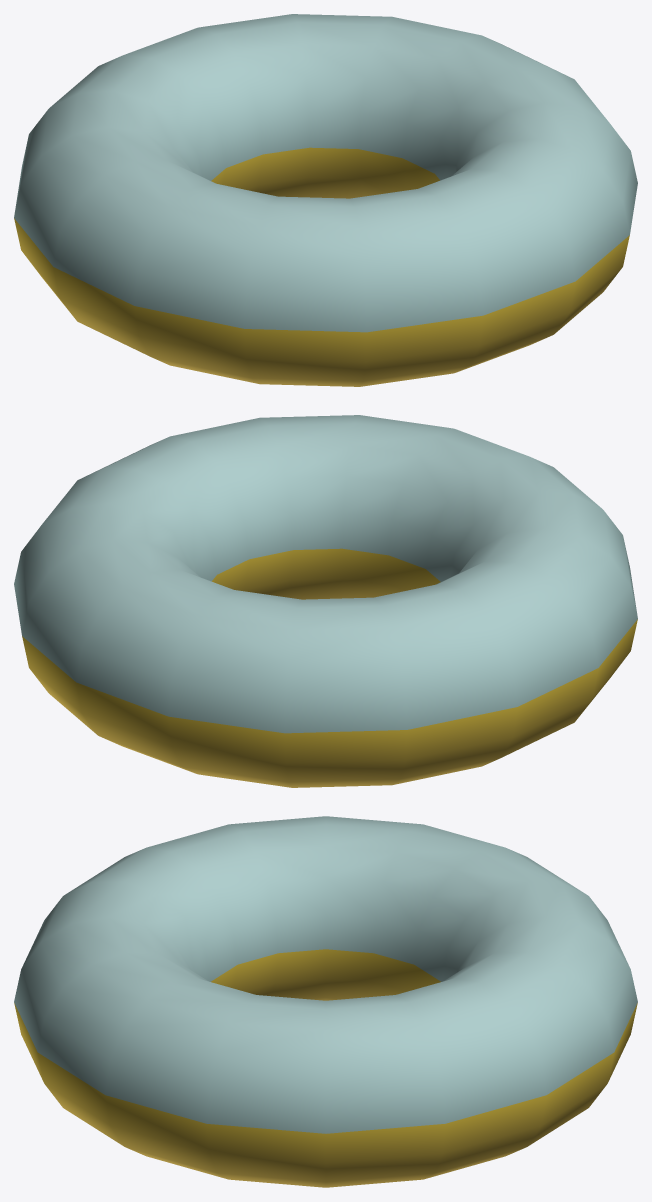
Rendered from pool-swimming-ring.glb.
3 renders of one model, top to bottom at view 1: azimuth 30°, elevation 25°; view 2: azimuth 150°, elevation 25°; view 3: azimuth 270°, elevation 25°, orthographic.
Visible parts, largest first — view 1: pool-swimming-ring; view 2: pool-swimming-ring; view 3: pool-swimming-ring.
Boxes of the visible parts, x1,y1,x2,y2 form: pool-swimming-ring: (14,14,637,386); pool-swimming-ring: (14,415,637,787); pool-swimming-ring: (14,816,637,1187).
Size of the model in its own units: 0.78 by 0.234 by 0.78.
